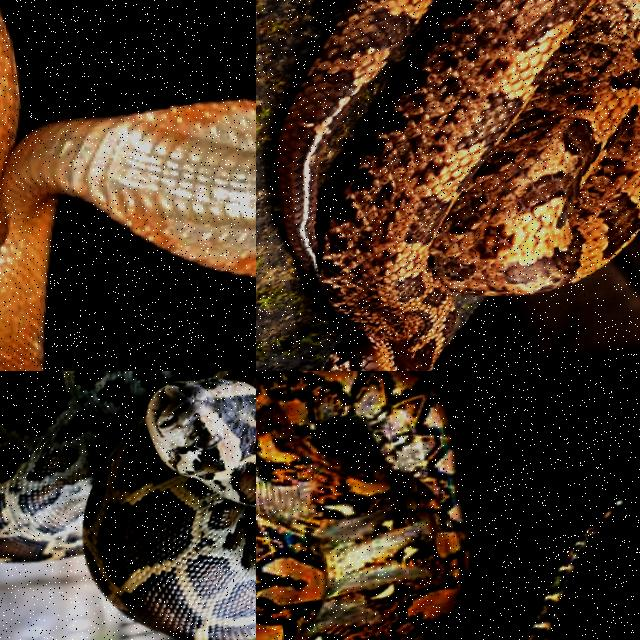Malayopython reticulatus: (256, 371, 469, 639)
Naja kaouthia: (0, 10, 255, 370)
Ovophis monticola: (275, 0, 639, 370)
Python bivittatus: (0, 371, 255, 639)
snake: (275, 0, 639, 370), (0, 10, 255, 370), (0, 371, 255, 639), (256, 371, 469, 639)
